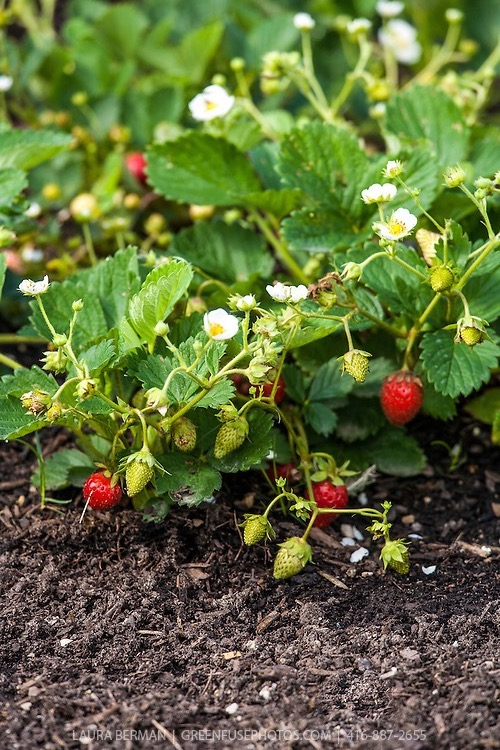ripe_strawberry: (380, 371, 424, 427), (306, 480, 349, 530), (83, 471, 125, 512), (238, 369, 286, 400)
unripe_strawberry: (213, 415, 251, 462), (272, 537, 312, 581), (123, 456, 156, 497), (452, 316, 489, 349), (381, 541, 413, 577), (240, 514, 273, 548), (423, 264, 460, 294), (340, 349, 372, 383), (171, 417, 201, 453)
